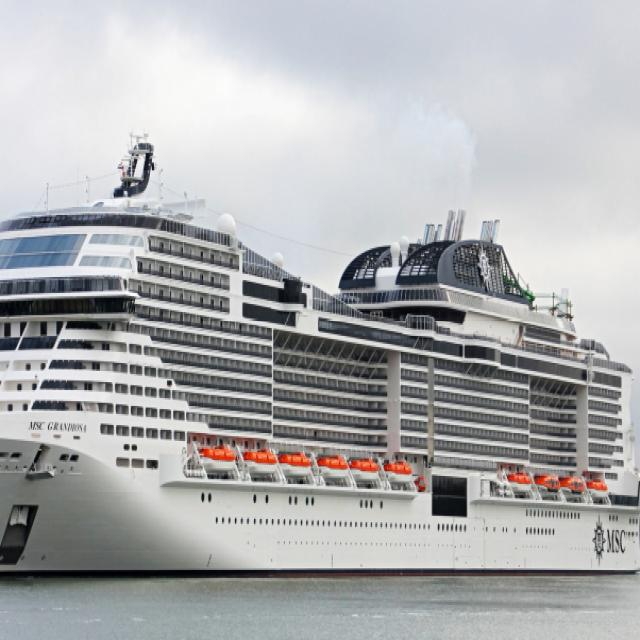cruises: (1, 133, 640, 595)
